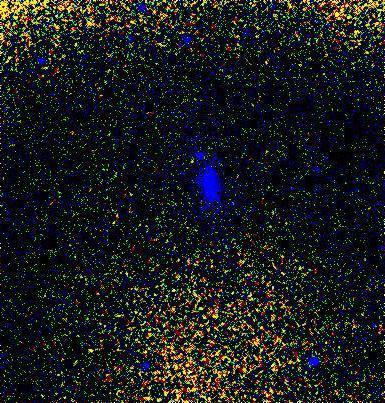star: (75, 327, 105, 357)
